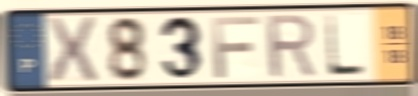3: (158, 13, 207, 84)
8: (106, 15, 149, 84)
F: (209, 14, 263, 80)
L: (323, 12, 368, 78)
R: (263, 12, 319, 81)
X: (45, 15, 101, 87)
